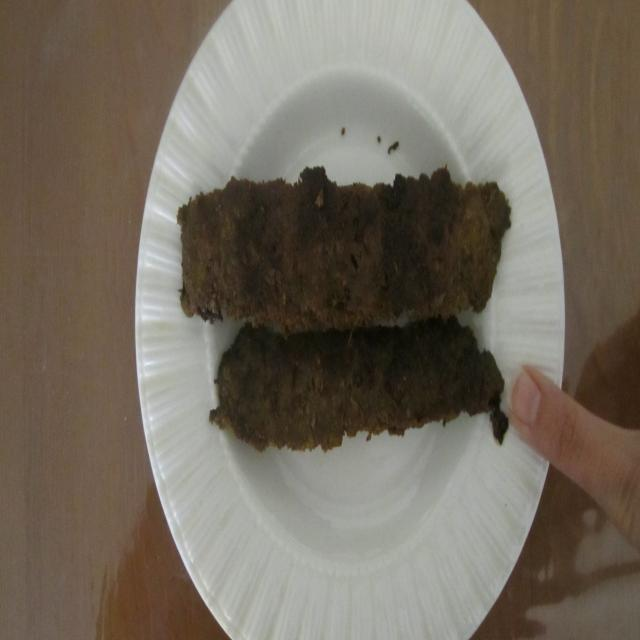cutlet: (139, 158, 526, 504)
